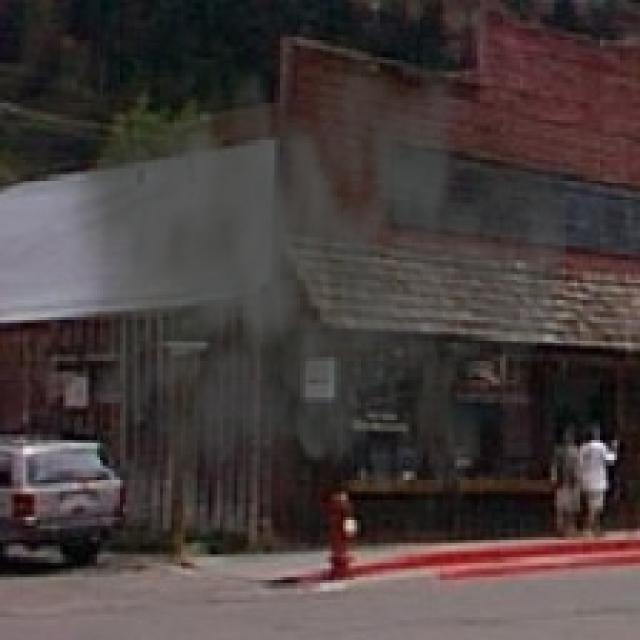smoke: (48, 23, 566, 557)
